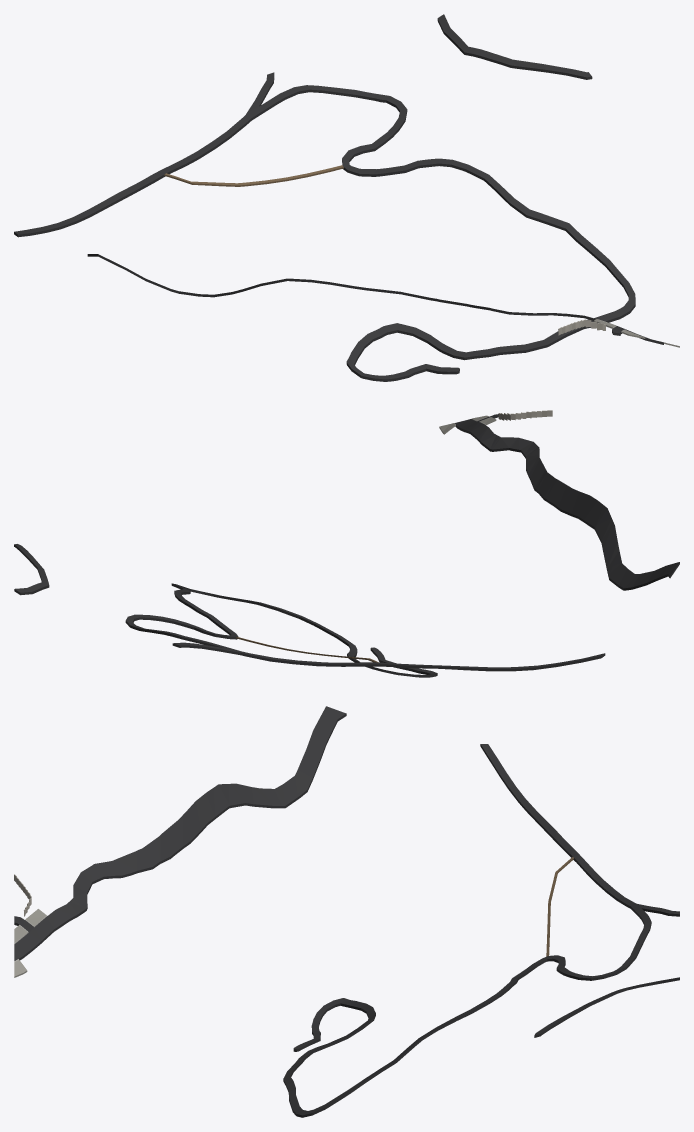
3 renders of one model, top to bottom at view 1: azimuth 30°, elevation 25°; view 2: azimuth 150°, elevation 25°; view 3: azimuth 270°, elevation 25°, orthographic. The views are drawn at different scales.
Bounding box in the file's own units: 293 × 89.61 × 292.
